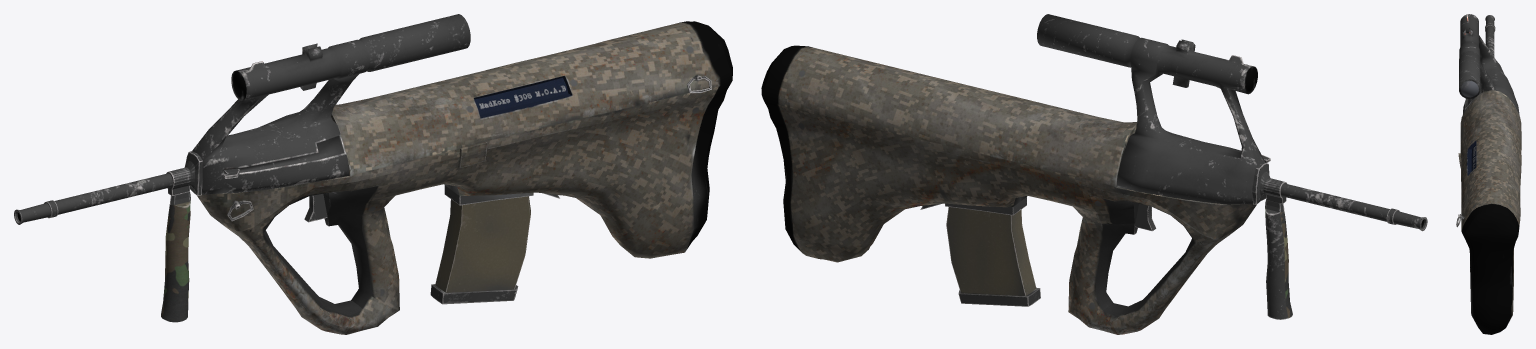
The model's file is aug.glb.
3 renders of one model, left to right at view 1: azimuth 30°, elevation 25°; view 2: azimuth 150°, elevation 25°; view 3: azimuth 270°, elevation 25°, orthographic. The views are drawn at different scales.
Visible parts, largest first — view 1: Aug; view 2: Aug; view 3: Aug.
Boxes of the visible parts, box(x1,y1,x2,y2) form: Aug: box(14, 14, 732, 334); Aug: box(761, 14, 1427, 334); Aug: box(1456, 14, 1521, 334).
Size of the model in its own units: 19.52 by 8.47 by 2.57.
1 material, 1 textured.
